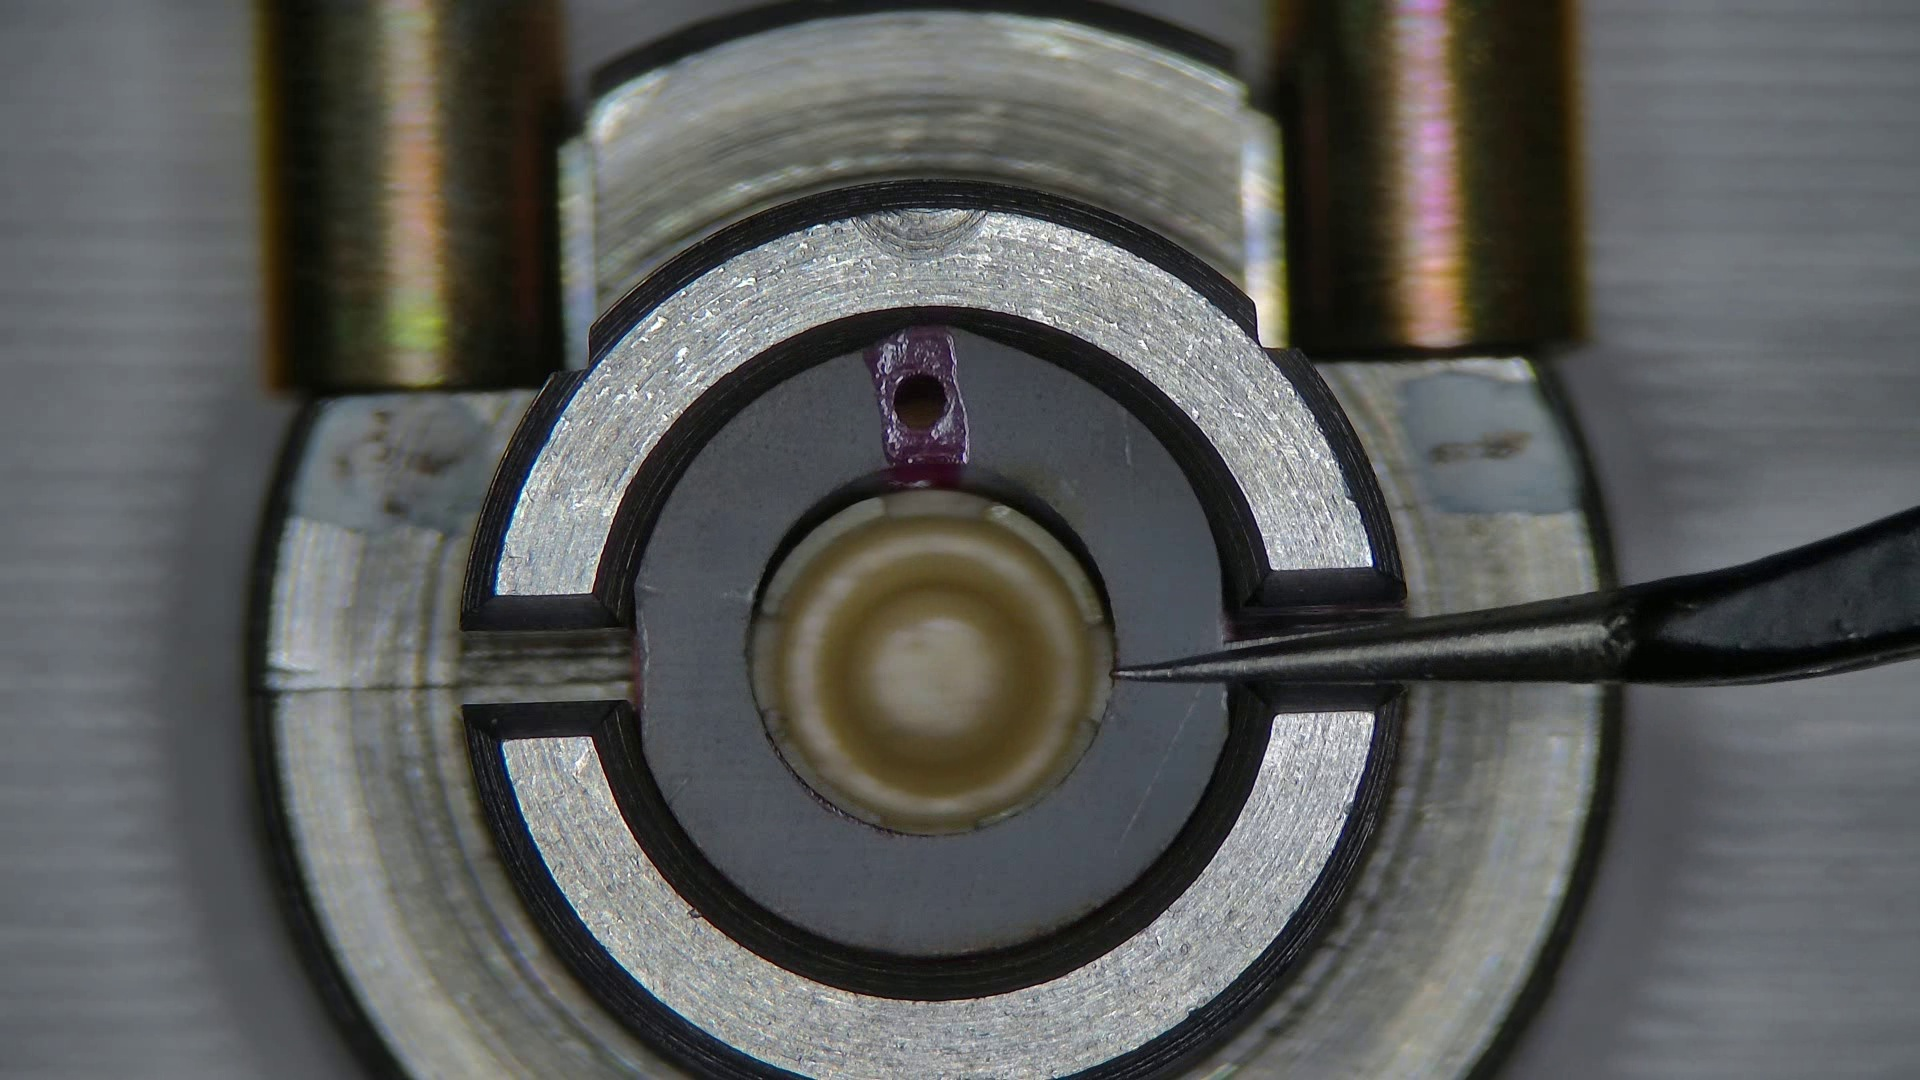YellowOring: (636, 328, 1226, 957)
